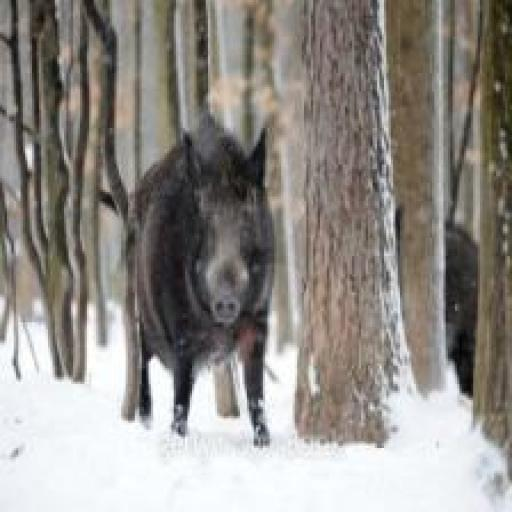Pig: (110, 107, 289, 462)
